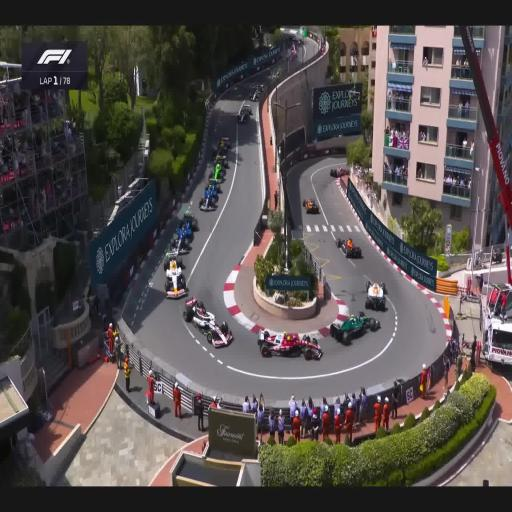f1_car: (183, 296, 232, 348), (258, 330, 322, 359), (330, 311, 380, 343), (167, 212, 198, 257), (163, 253, 186, 298), (365, 280, 387, 310), (336, 238, 362, 258), (199, 184, 218, 211), (212, 137, 230, 160), (209, 163, 225, 183), (303, 199, 319, 213), (330, 166, 349, 177), (179, 258, 180, 259), (180, 261, 180, 262)
